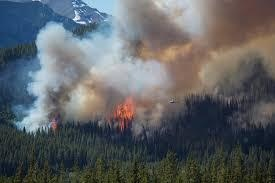fire: (110, 94, 137, 125), (48, 118, 60, 130)
